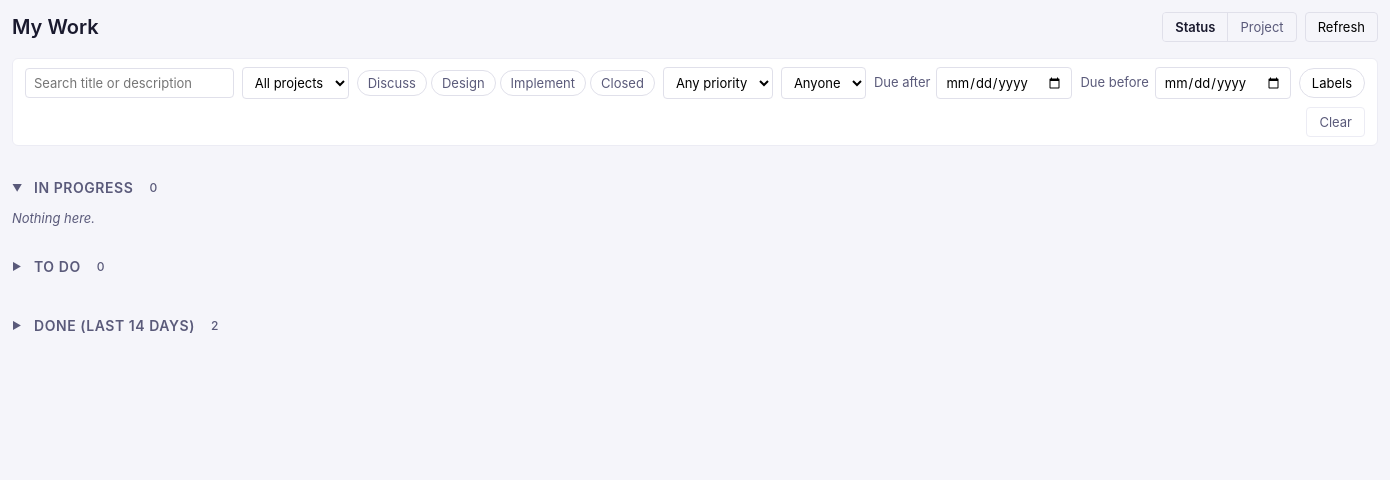
Test case: MyWorkView › renders a 'View all' link in the Done section for each unique flow once expanded
# Done is collapsed by default — expand it to see the per-flow View all links.
Click the button with test id "my-work-group-heading-done" at (115, 325), box left=12, top=312, right=1378, bottom=338
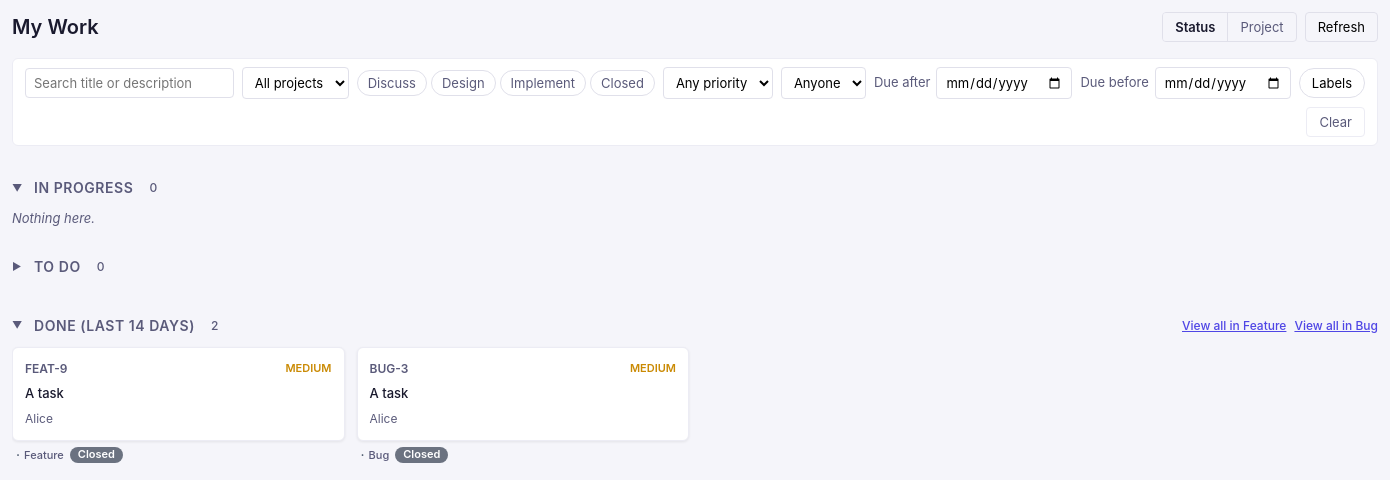
expect the link with test id "my-work-view-all-feature" is shown: met, box left=1182, top=318, right=1286, bottom=332
expect the link with test id "my-work-view-all-bug" is shown: met, box left=1294, top=318, right=1378, bottom=332
